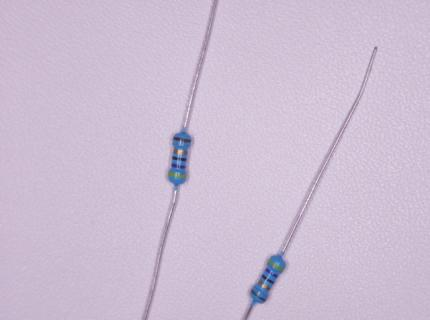Black band: (261, 274, 274, 285), (172, 156, 187, 162)
Brown band: (250, 289, 266, 302), (173, 137, 191, 143)
Gold band: (257, 279, 272, 291), (173, 148, 188, 155)
Violet band: (265, 267, 278, 278), (171, 163, 186, 169)
Yellow band: (268, 259, 285, 272), (168, 171, 187, 179)
